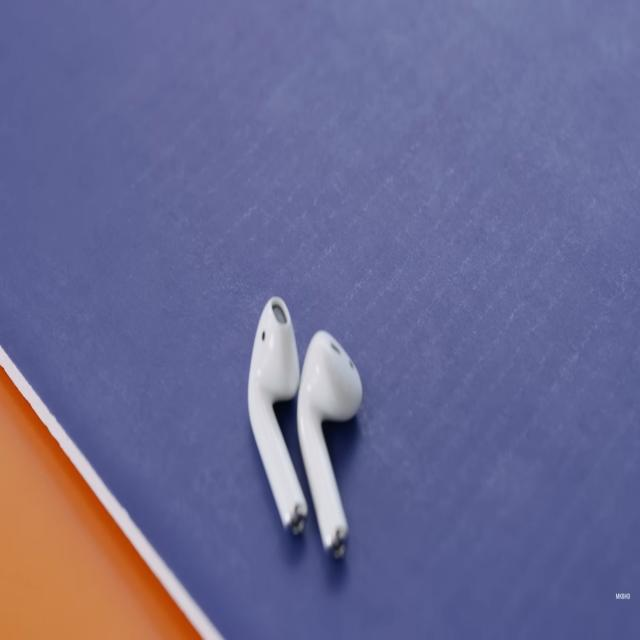airpods: (247, 295, 363, 562)
